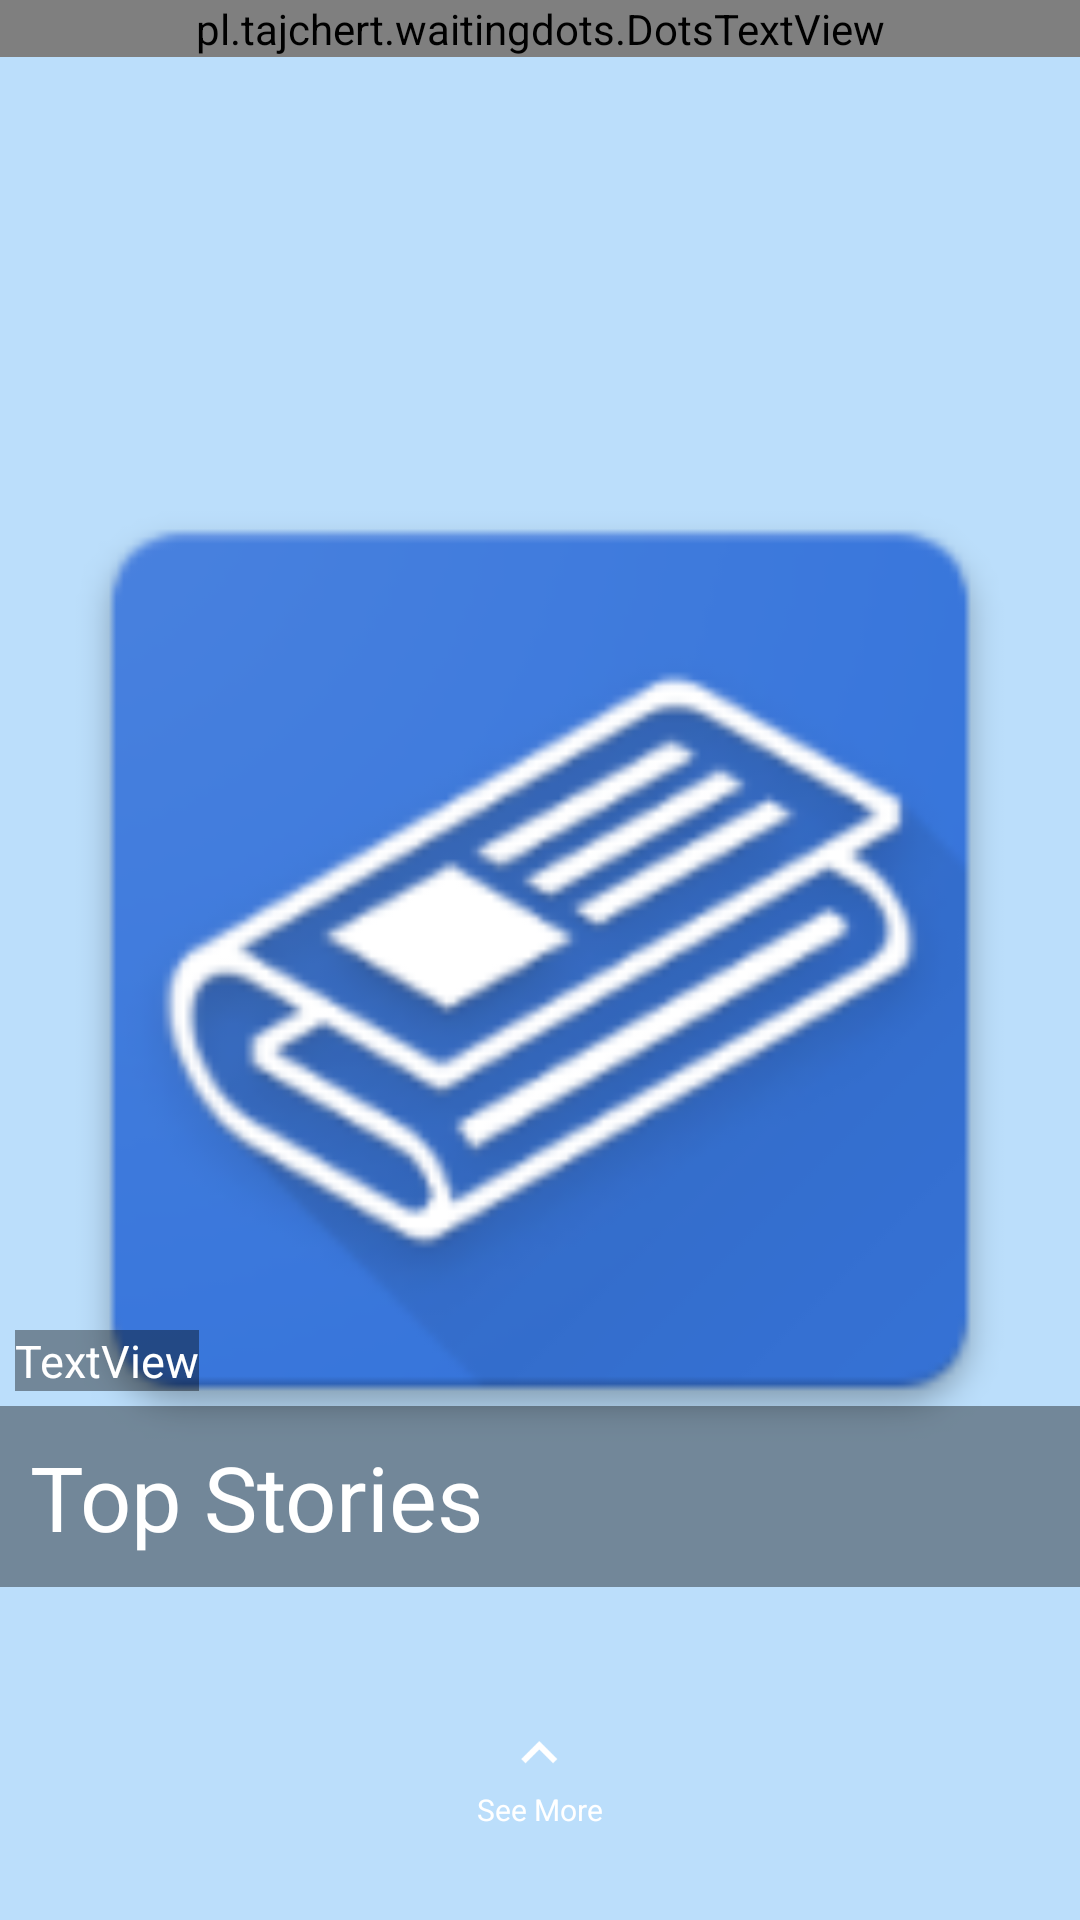

Screen size 1080px×1920px. Icon name, then its box in pixels as detection(x1, y1, x2, y2):
arrow: detection(522, 1741, 557, 1763)
